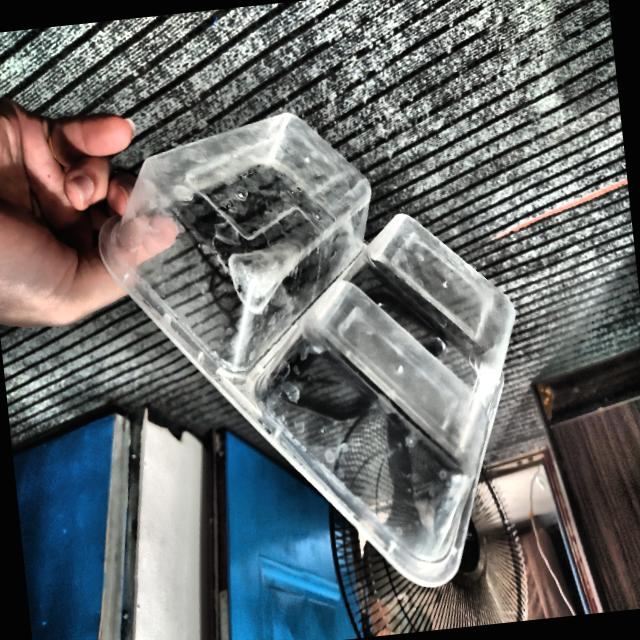plastic container: (99, 112, 515, 585)
